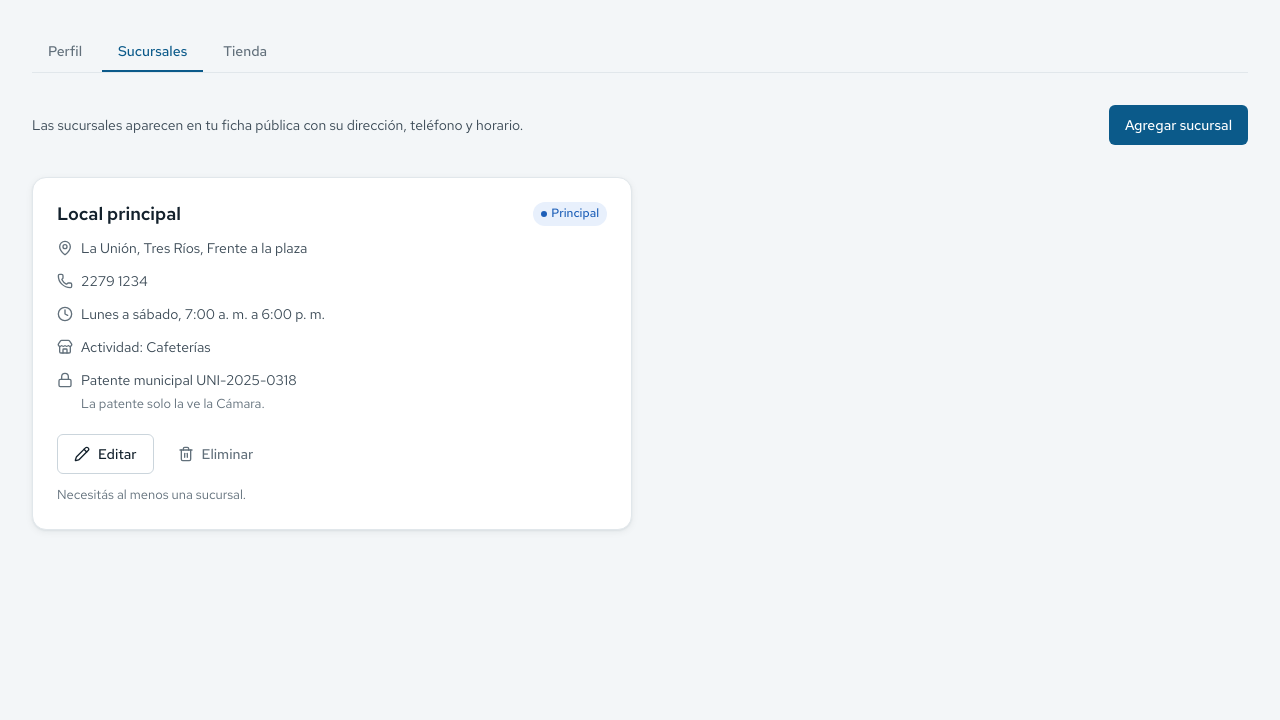
Test: the branches screen › adds a branch from its popup
Click the button "Agregar sucursal" at (1178, 125), box x1=1109 y1=105 x2=1248 y2=145
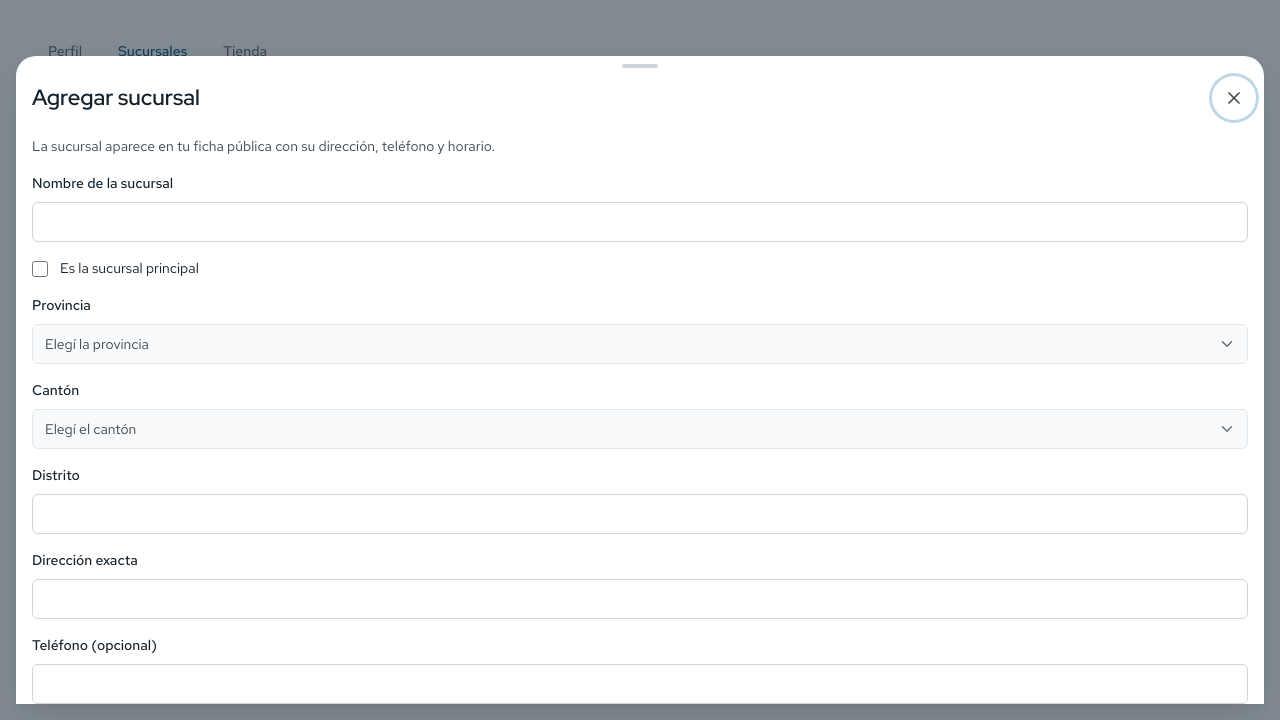
Type "Sucursal Curridabat" into the field labelled "Nombre de la sucursal" at (640, 222), box x1=32 y1=202 x2=1248 y2=242
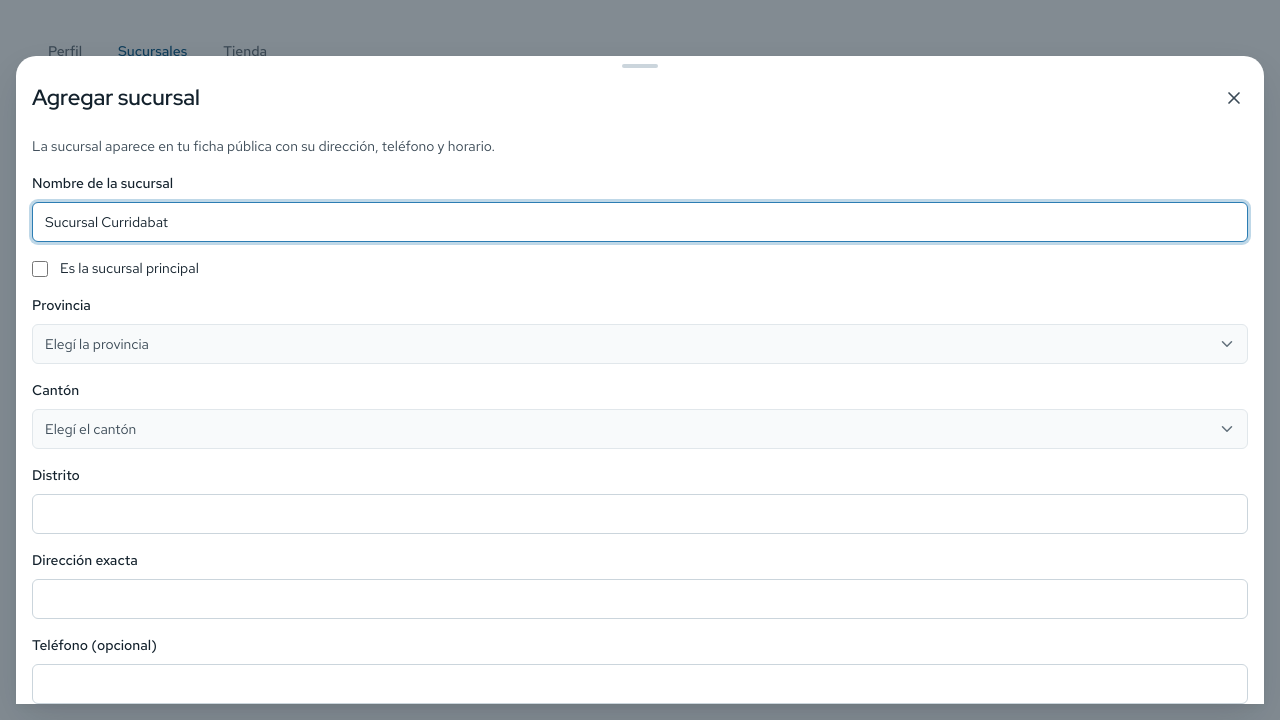
Select "Curridabat" in the dropdown labelled "Cantón" at (640, 429), box x1=32 y1=409 x2=1248 y2=449
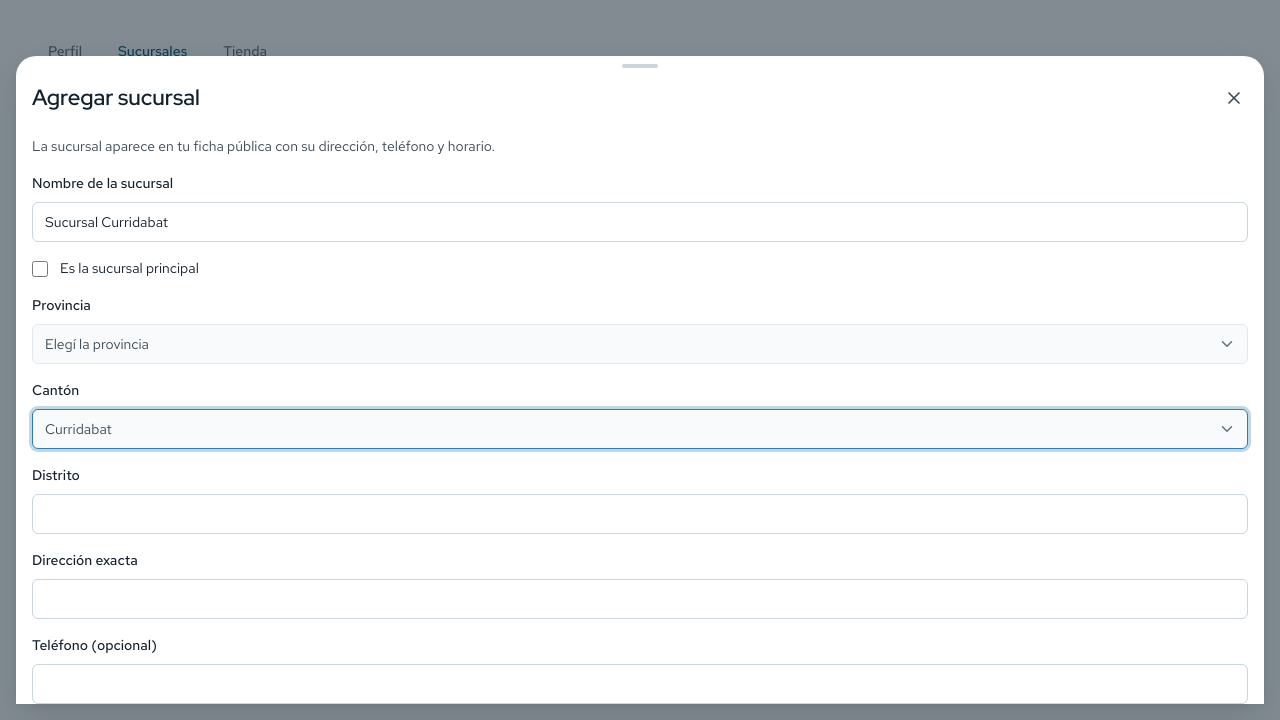
Type "Granadilla" into the field labelled "Distrito" at (640, 514), box x1=32 y1=494 x2=1248 y2=534
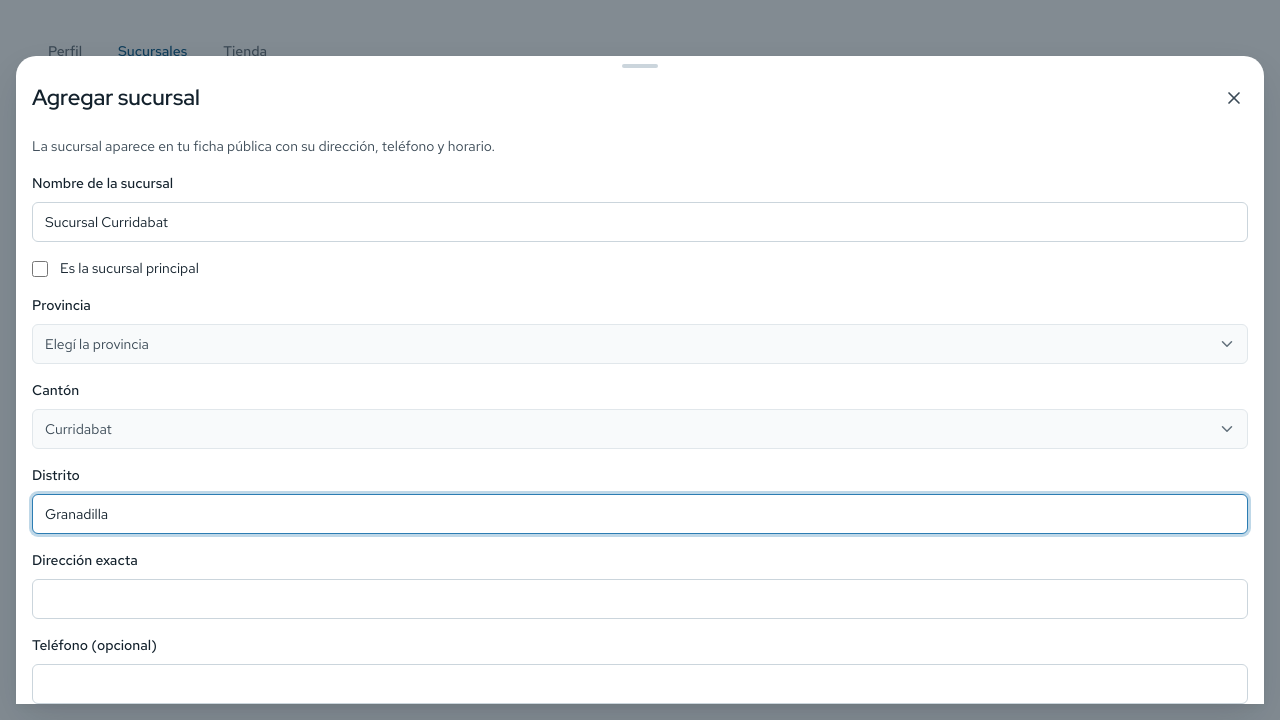
Type "100 m sur del parque" into the field labelled "Dirección exacta" at (640, 599), box x1=32 y1=579 x2=1248 y2=619
(page scrolled)
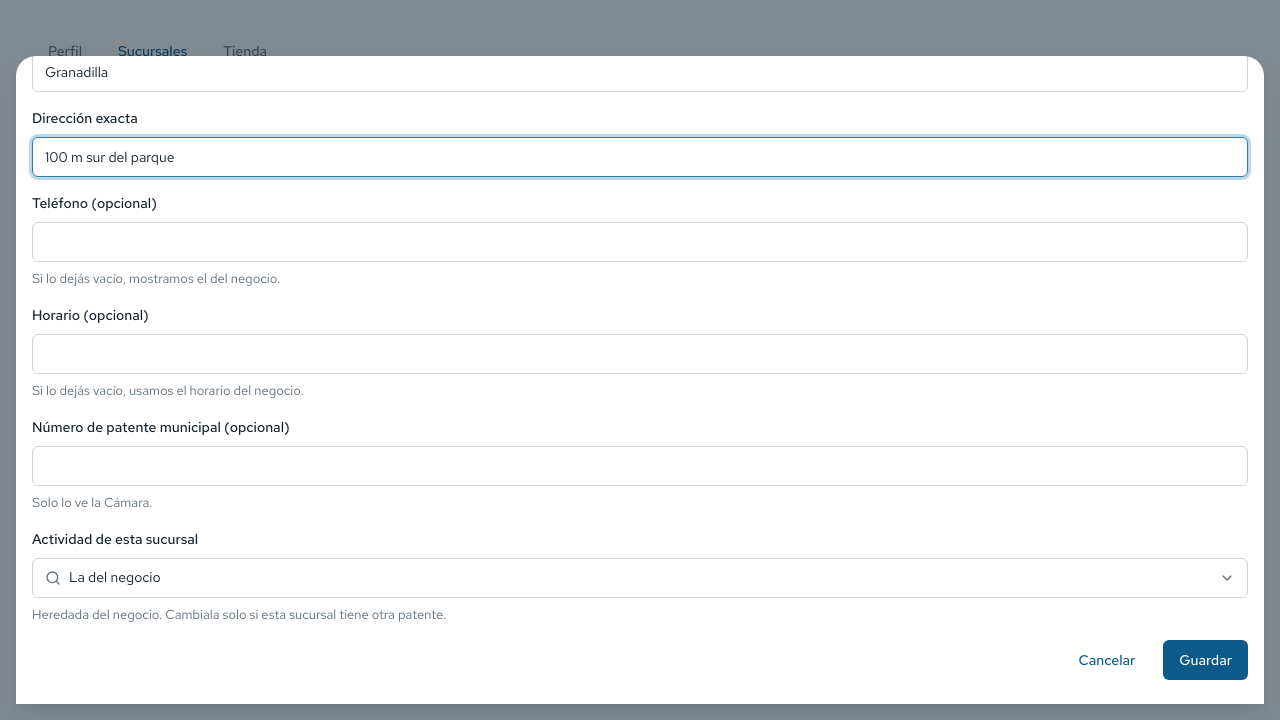
Click the button "Guardar" at (1206, 660), box x1=1163 y1=640 x2=1248 y2=680
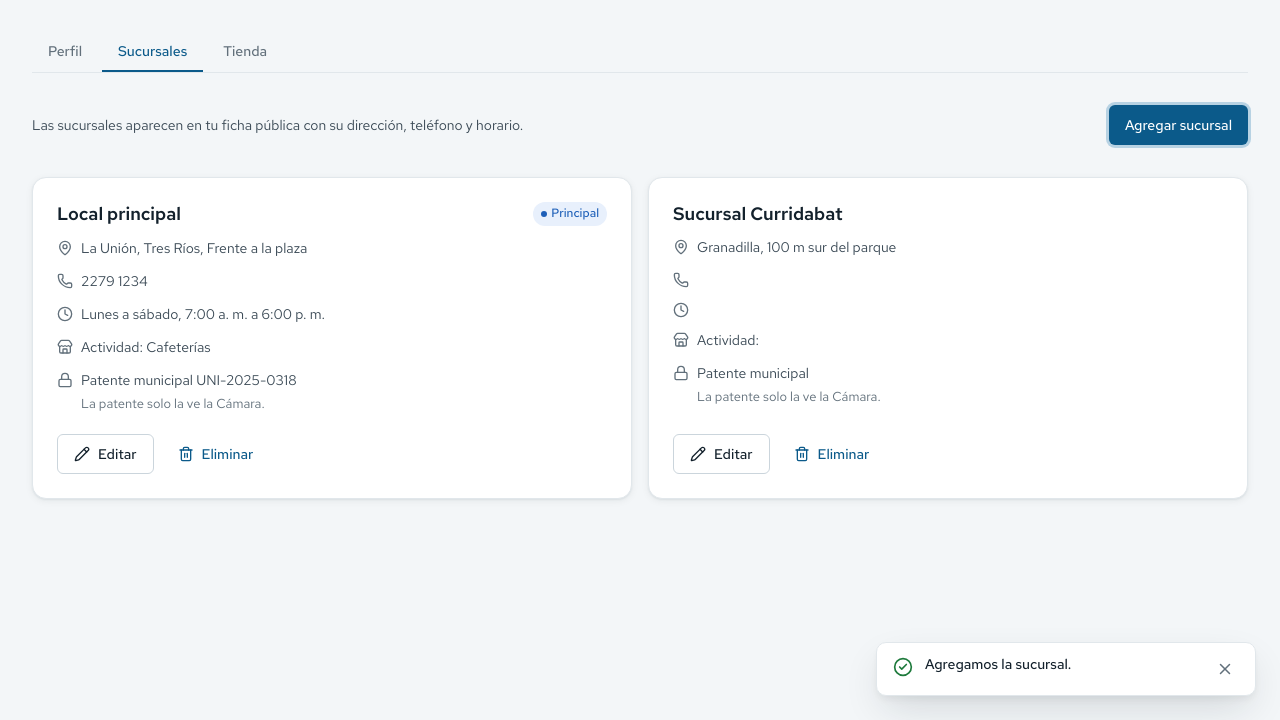
Check: the heading "Sucursal Curridabat" is shown, box x1=673 y1=202 x2=843 y2=225
